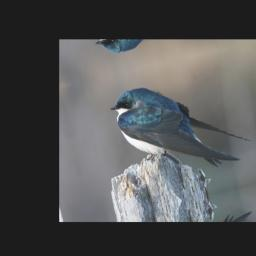Swallow: (108, 65, 256, 188)
